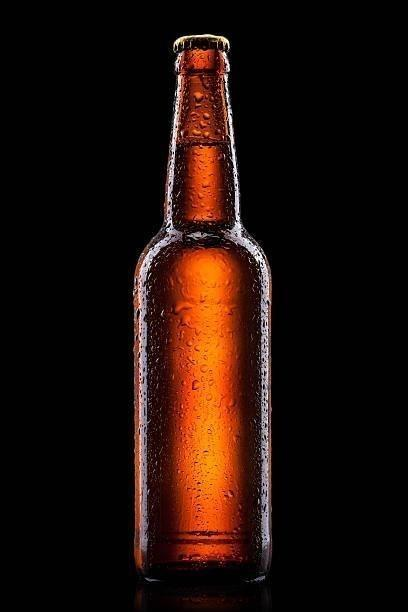bottle-glass: (126, 31, 279, 591)
